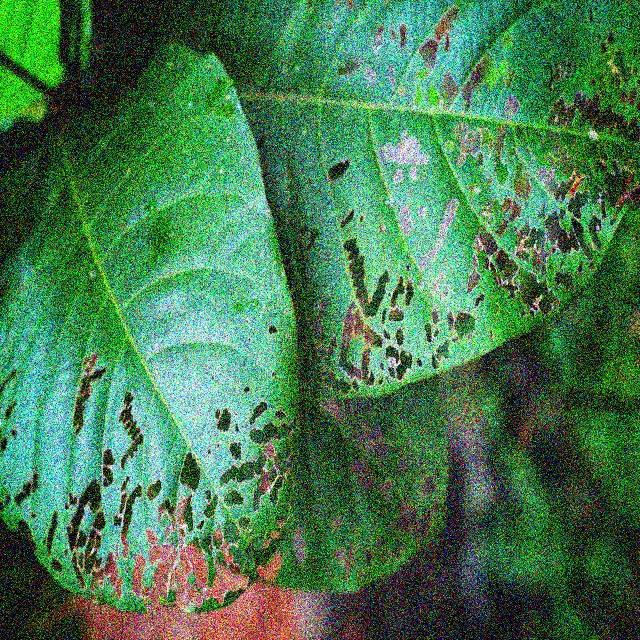shot_hole: (5, 6, 640, 615)
